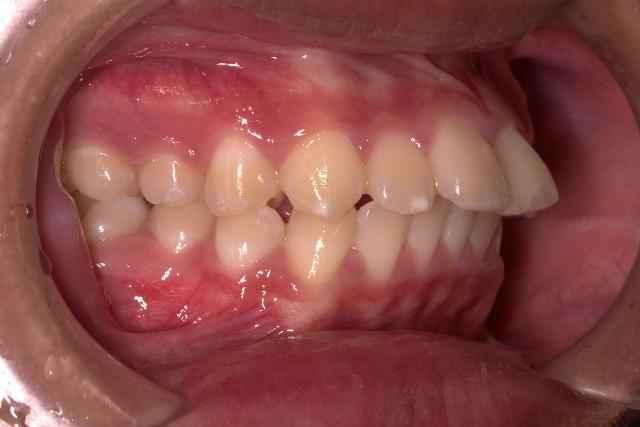canine class II 3/4: (210, 123, 370, 289)
molar class II 1/4: (56, 135, 148, 249)
